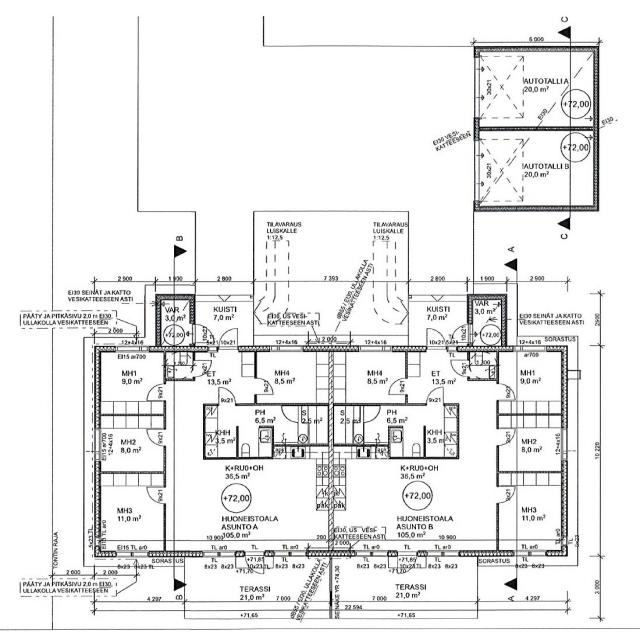door: (245, 550, 264, 576), (219, 327, 238, 352), (427, 327, 446, 352), (448, 324, 474, 342), (398, 551, 416, 576), (190, 324, 213, 342), (146, 383, 166, 400), (193, 360, 212, 377), (146, 430, 166, 446), (254, 378, 274, 394), (388, 378, 408, 394), (219, 387, 235, 406), (496, 430, 515, 446), (496, 487, 515, 503), (451, 360, 470, 376), (427, 388, 443, 406), (147, 488, 166, 503), (496, 384, 515, 399), (280, 407, 299, 422), (363, 407, 381, 422)
